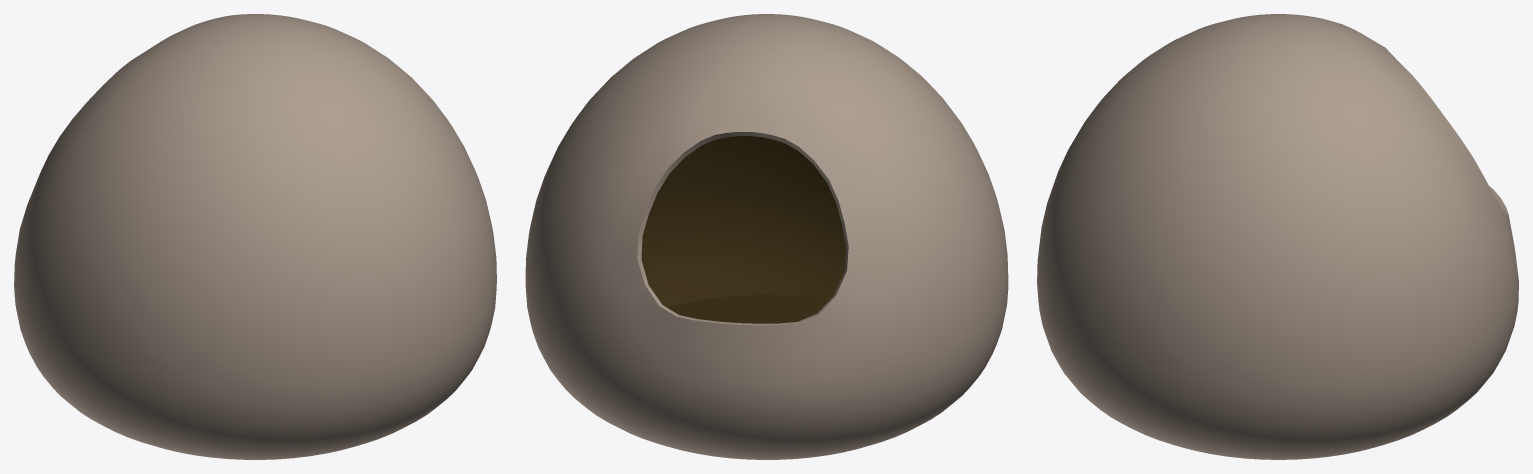
File: Creature Hut.fbx
The picture shows the model from 3 angles, left to right: view 1: azimuth 30°, elevation 25°; view 2: azimuth 150°, elevation 25°; view 3: azimuth 270°, elevation 25°; orthographic projection.
Parts seen in each view (by area): view 1: Sphere; view 2: Sphere; view 3: Sphere.
Part boxes in pixels (x1,y1,x2,y2): Sphere: (14, 14, 496, 459); Sphere: (525, 14, 1008, 459); Sphere: (1037, 14, 1518, 459).
Bounding box in the file's own units: 1379 × 1210 × 1375.
